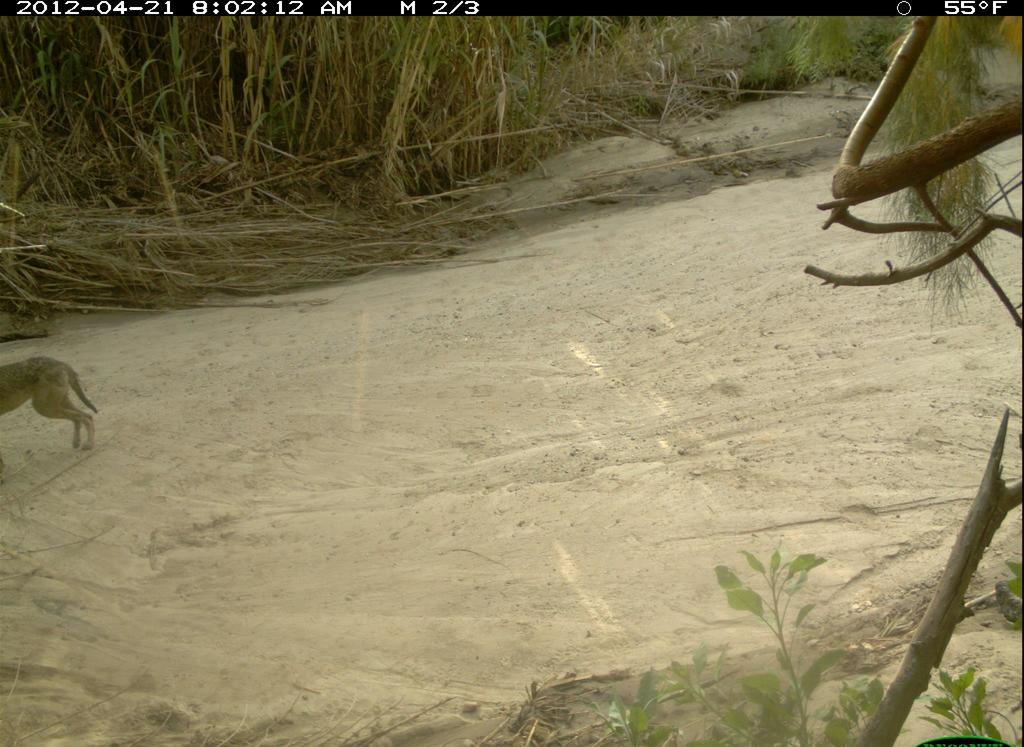coyote: (1, 333, 112, 473)
